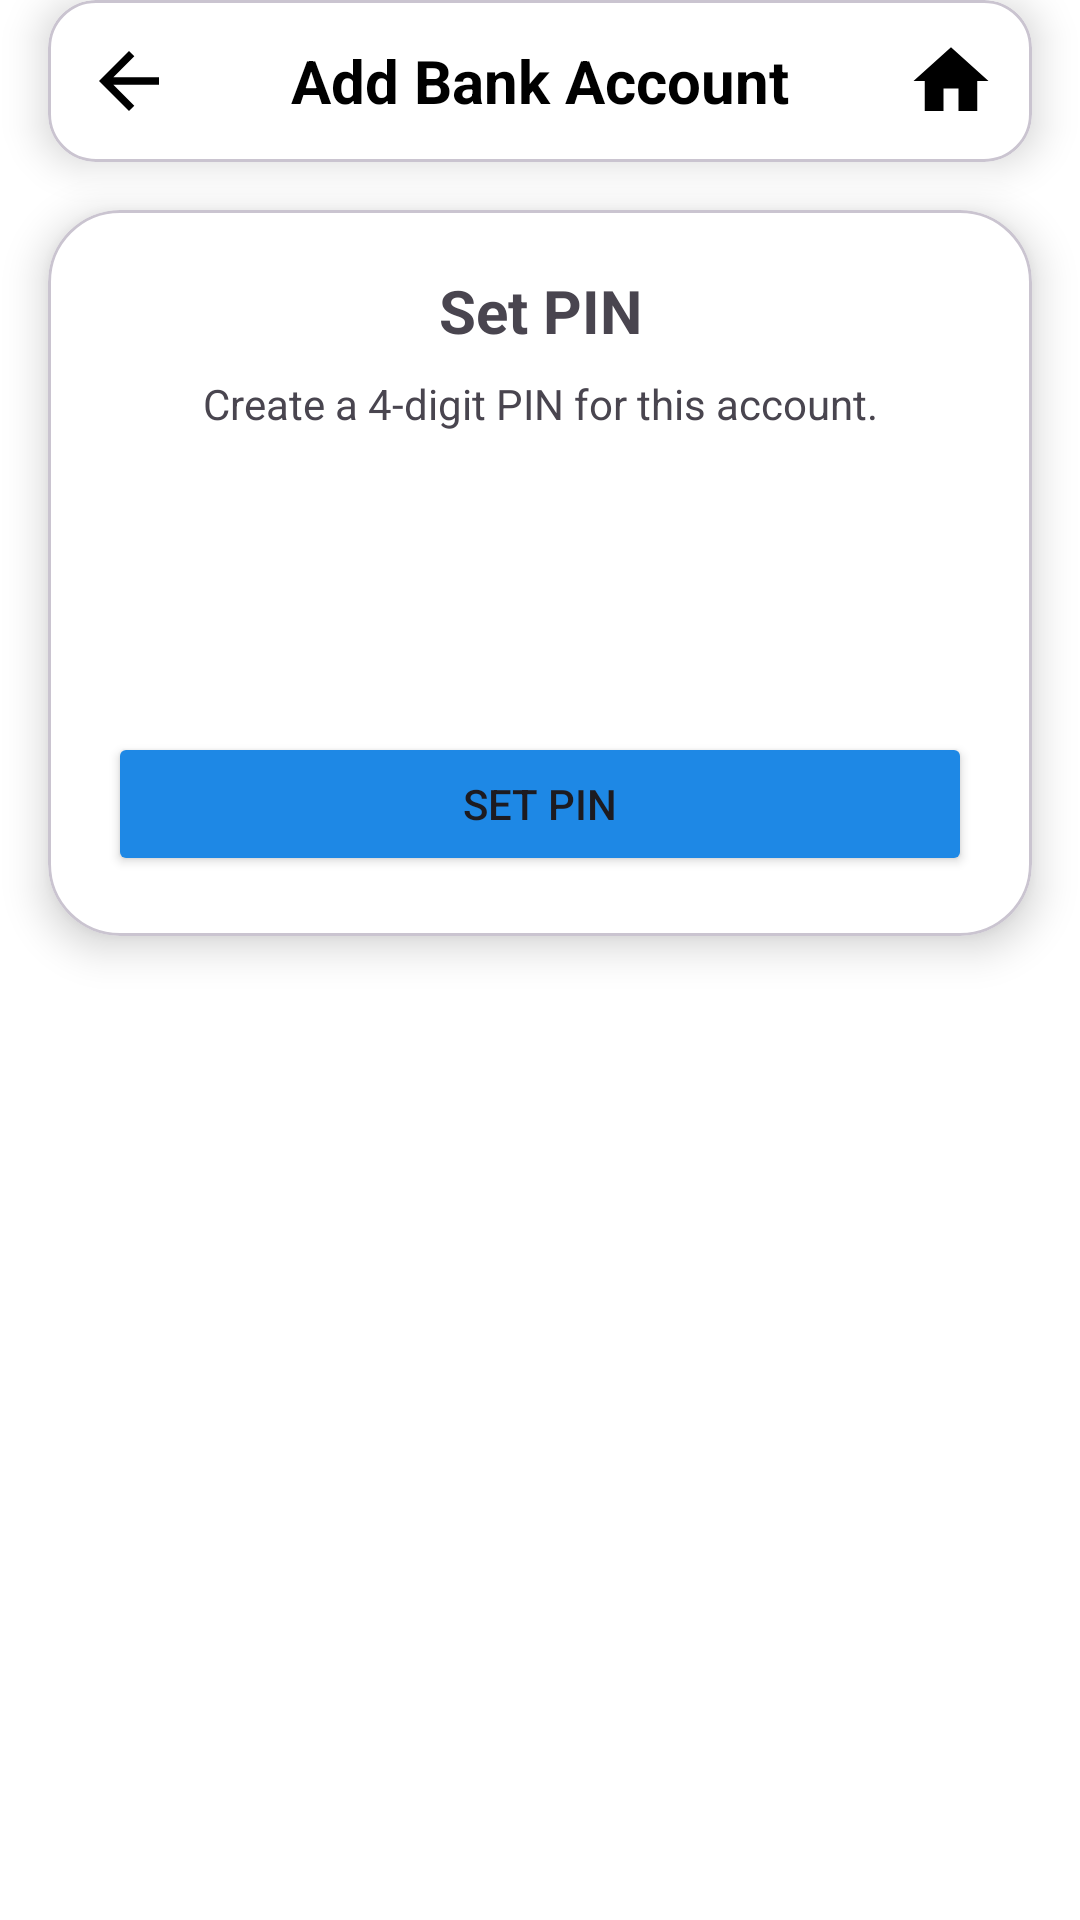

Screen size 1080×1920. Icon name, then its center in pixels as point (x, y):
arrow back: point (129, 81)
home: point (951, 79)
